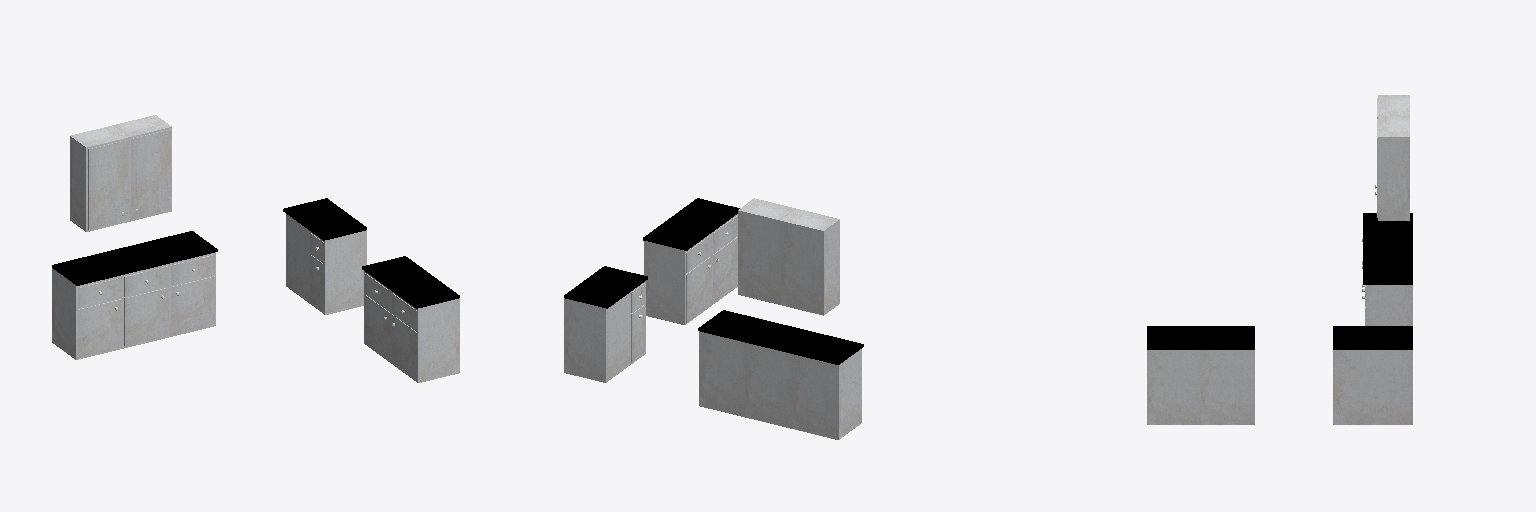
3 renders of one model, left to right at view 1: azimuth 30°, elevation 25°; view 2: azimuth 150°, elevation 25°; view 3: azimuth 270°, elevation 25°, orthographic.
Visible parts, largest first — view 1: pCylinder12, pCylinder15, pCylinder10, polySurface17, pCylinder11; view 2: pCylinder12, pCylinder10, pCylinder15, polySurface17, pCylinder11; view 3: pCylinder15, polySurface17, pCylinder10, pCylinder12, pCylinder11.
Boxes of the visible parts, x1,y1,x2,y2 form: pCylinder12: [70, 115, 171, 231]; pCylinder15: [362, 256, 459, 382]; pCylinder10: [99, 231, 217, 348]; polySurface17: [283, 198, 366, 314]; pCylinder11: [52, 254, 123, 359]; pCylinder12: [738, 198, 839, 315]; pCylinder10: [698, 310, 815, 428]; pCylinder15: [643, 198, 739, 324]; polySurface17: [564, 266, 647, 382]; pCylinder11: [792, 333, 863, 439]; pCylinder15: [1147, 326, 1254, 424]; polySurface17: [1333, 326, 1412, 424]; pCylinder10: [1362, 236, 1412, 325]; pCylinder12: [1375, 95, 1409, 220]; pCylinder11: [1362, 213, 1412, 268].
Size of the model in its own units: 4.31 by 3.06 by 3.62.
Materials: 3 (2 with a texture image).